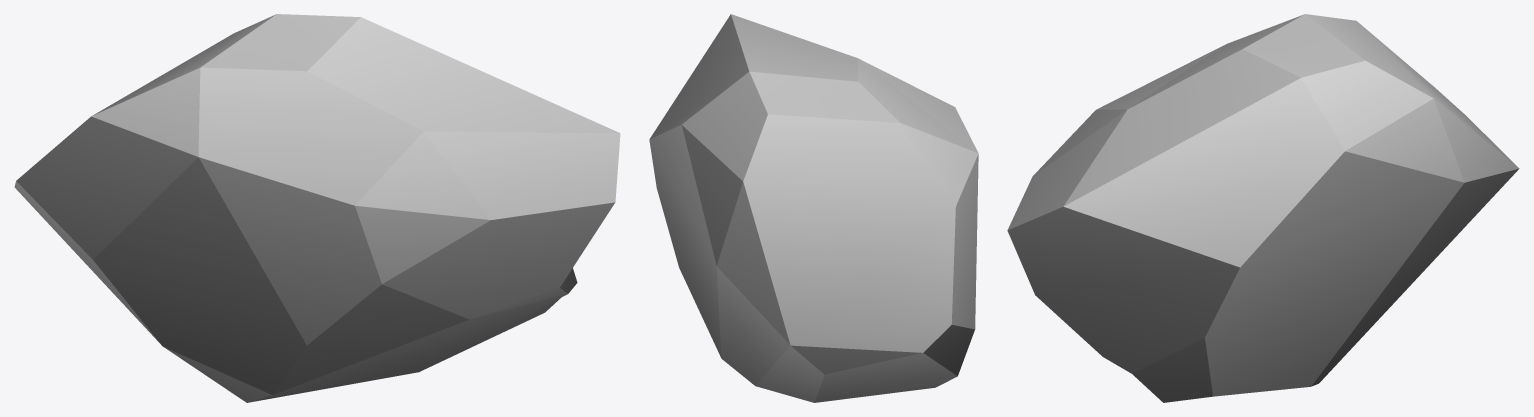
The model's file is Rock_10.fbx.
3 views of the same model, side by side, from view 1: azimuth 30°, elevation 25°; view 2: azimuth 150°, elevation 25°; view 3: azimuth 270°, elevation 25° (orthographic). The views are drawn at different scales.
Visible parts, largest first — view 1: Icosphere.002; view 2: Icosphere.002; view 3: Icosphere.002.
Boxes of the visible parts, <box> form: Icosphere.002: <box>14,14,620,402</box>; Icosphere.002: <box>649,14,978,402</box>; Icosphere.002: <box>1007,14,1519,402</box>.
Bounding box in the file's own units: 230 × 166 × 243.
